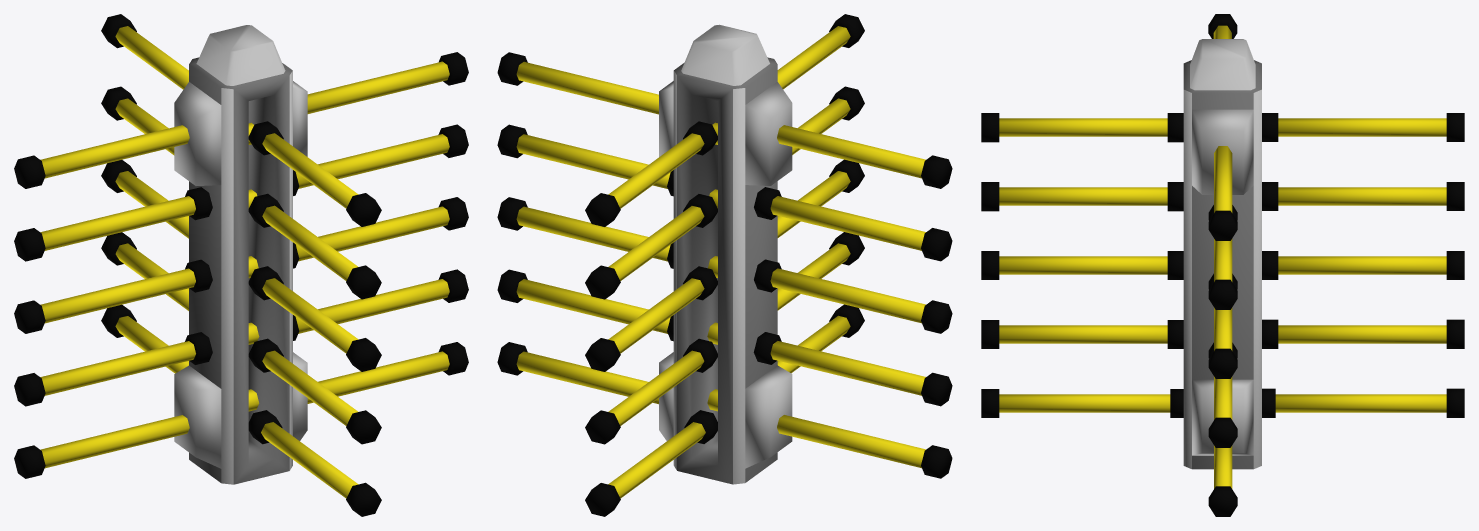
The model's file is LastWall-4.fbx.
3 views of the same model, side by side, from view 1: azimuth 30°, elevation 25°; view 2: azimuth 150°, elevation 25°; view 3: azimuth 270°, elevation 25° (orthographic). The views are drawn at different scales.
Visible parts, largest first — view 1: Cube.002; view 2: Cube.002; view 3: Cube.002.
Part boxes in pixels (x1,y1,x2,y2): Cube.002: [14, 14, 468, 516]; Cube.002: [497, 14, 952, 516]; Cube.002: [981, 14, 1464, 516].
Bounding box in the file's own units: 1.28 × 1.18 × 1.28.
